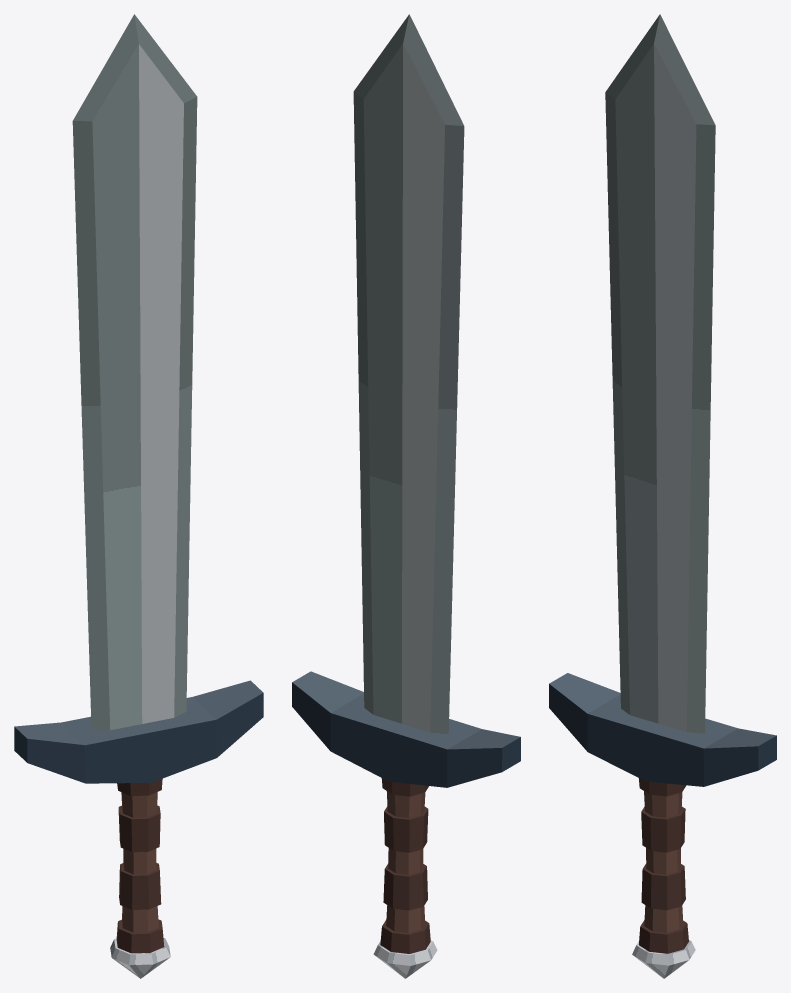
Rendered from LowPolySword.glb.
3 views of the same model, side by side, from view 1: azimuth 30°, elevation 25°; view 2: azimuth 150°, elevation 25°; view 3: azimuth 330°, elevation 25° (orthographic).
Visible parts, largest first — view 1: Cube; view 2: Cube; view 3: Cube.
Boxes of the visible parts, x1,y1,x2,y2 form: Cube: (14,14,263,978); Cube: (292,14,520,978); Cube: (549,14,776,978).
Bounding box in the file's own units: 3.73 × 15.22 × 1.05.
Materials: 1 (1 with a texture image).
